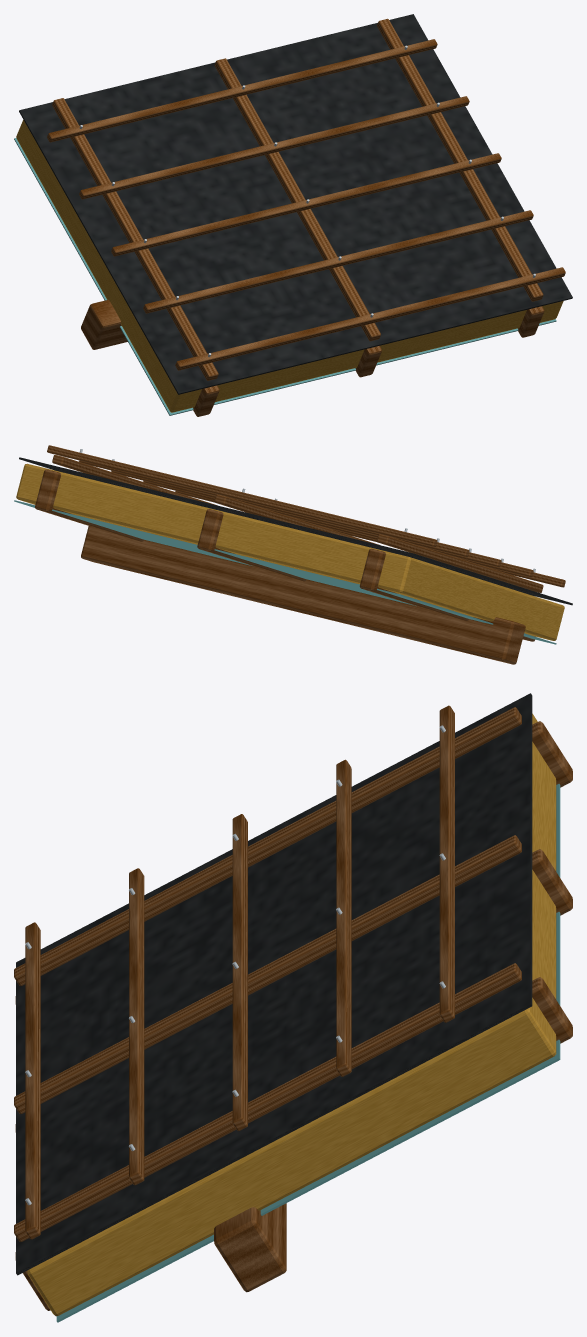
The model's file is modell.glb.
3 renders of one model, top to bottom at view 1: azimuth 30°, elevation 25°; view 2: azimuth 150°, elevation 25°; view 3: azimuth 270°, elevation 25°, orthographic. The views are drawn at different scales.
Visible parts, largest first — view 1: g02-zusatzebene_zusatzebene, g02-lattung_lattung, g02-daemmung_daemmung, g02-luftdichtheit_luftdichtheit, g02-sparren_tragwerk, g02-pfette_tragwerk; view 2: g02-daemmung_daemmung, g02-pfette_tragwerk, g02-lattung_lattung, g02-sparren_tragwerk, g02-zusatzebene_zusatzebene, g02-luftdichtheit_luftdichtheit; view 3: g02-zusatzebene_zusatzebene, g02-lattung_lattung, g02-daemmung_daemmung, g02-pfette_tragwerk, g02-luftdichtheit_luftdichtheit, g02-sparren_tragwerk.
Part boxes in pixels (x1=…): g02-zusatzebene_zusatzebene: x1=19, y1=14, x2=572, y2=394; g02-lattung_lattung: x1=47, y1=18, x2=565, y2=380; g02-daemmung_daemmung: x1=16, y1=120, x2=563, y2=412; g02-luftdichtheit_luftdichtheit: x1=14, y1=138, x2=556, y2=415; g02-sparren_tragwerk: x1=193, y1=306, x2=544, y2=416; g02-pfette_tragwerk: x1=81, y1=299, x2=127, y2=349; g02-daemmung_daemmung: x1=16, y1=463, x2=564, y2=640; g02-pfette_tragwerk: x1=81, y1=526, x2=525, y2=664; g02-lattung_lattung: x1=47, y1=445, x2=565, y2=592; g02-sparren_tragwerk: x1=35, y1=469, x2=534, y2=641; g02-zusatzebene_zusatzebene: x1=19, y1=457, x2=572, y2=605; g02-luftdichtheit_luftdichtheit: x1=14, y1=500, x2=556, y2=644; g02-zusatzebene_zusatzebene: x1=16, y1=693, x2=532, y2=1275; g02-lattung_lattung: x1=14, y1=705, x2=521, y2=1242; g02-daemmung_daemmung: x1=27, y1=713, x2=556, y2=1316; g02-pfette_tragwerk: x1=214, y1=1203, x2=286, y2=1292; g02-luftdichtheit_luftdichtheit: x1=56, y1=783, x2=560, y2=1322; g02-sparren_tragwerk: x1=15, y1=721, x2=572, y2=1310.
Size of the model in its own units: 2.25 by 1.07 by 1.59.
Materials: 5 (3 with a texture image).
